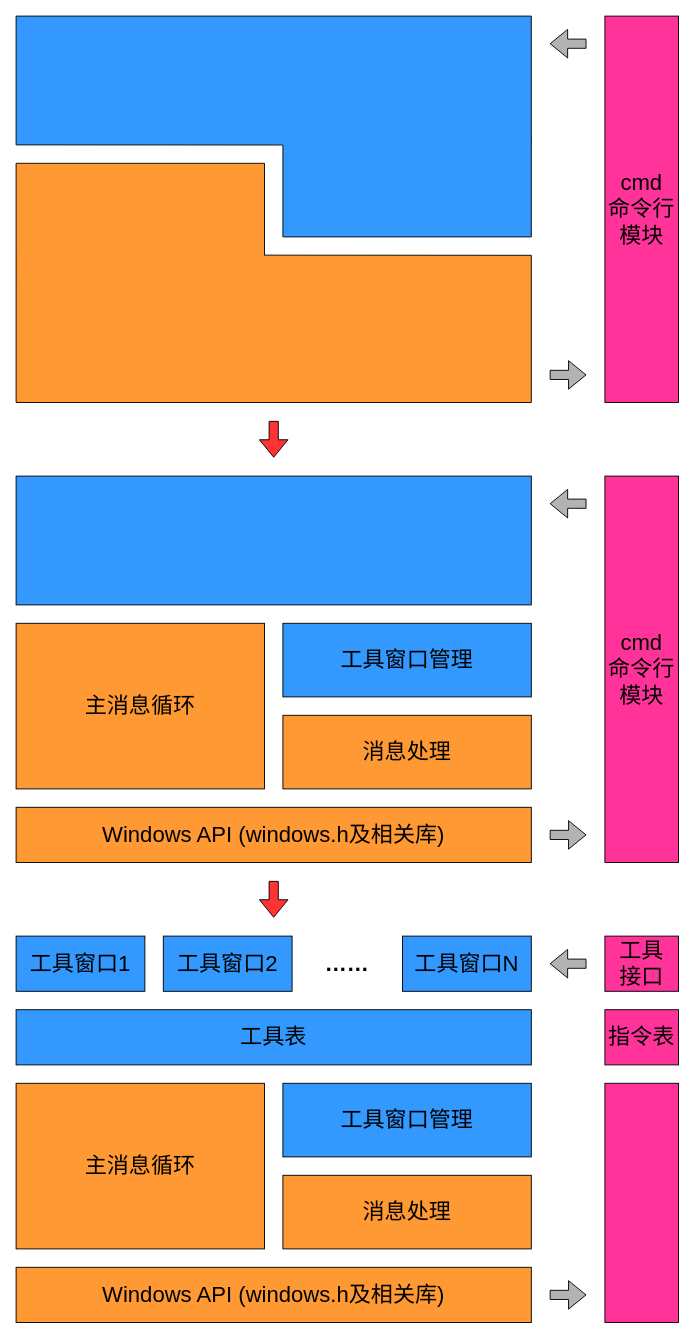
The diagram is 695 pixels wide and 1339 high, and some of its shapes have lost their labels. Each missing label, with the box of its shape:
Windows 消息循环机制: (16, 255, 531, 402)
命令行解析: (604, 1082, 678, 1322)
工具: (16, 16, 531, 144)
工具层: (15, 475, 531, 605)
